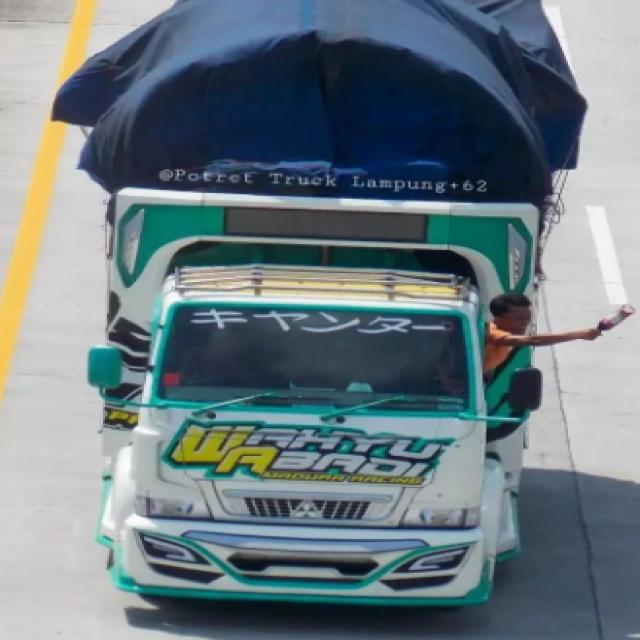truck: (64, 0, 584, 631)
